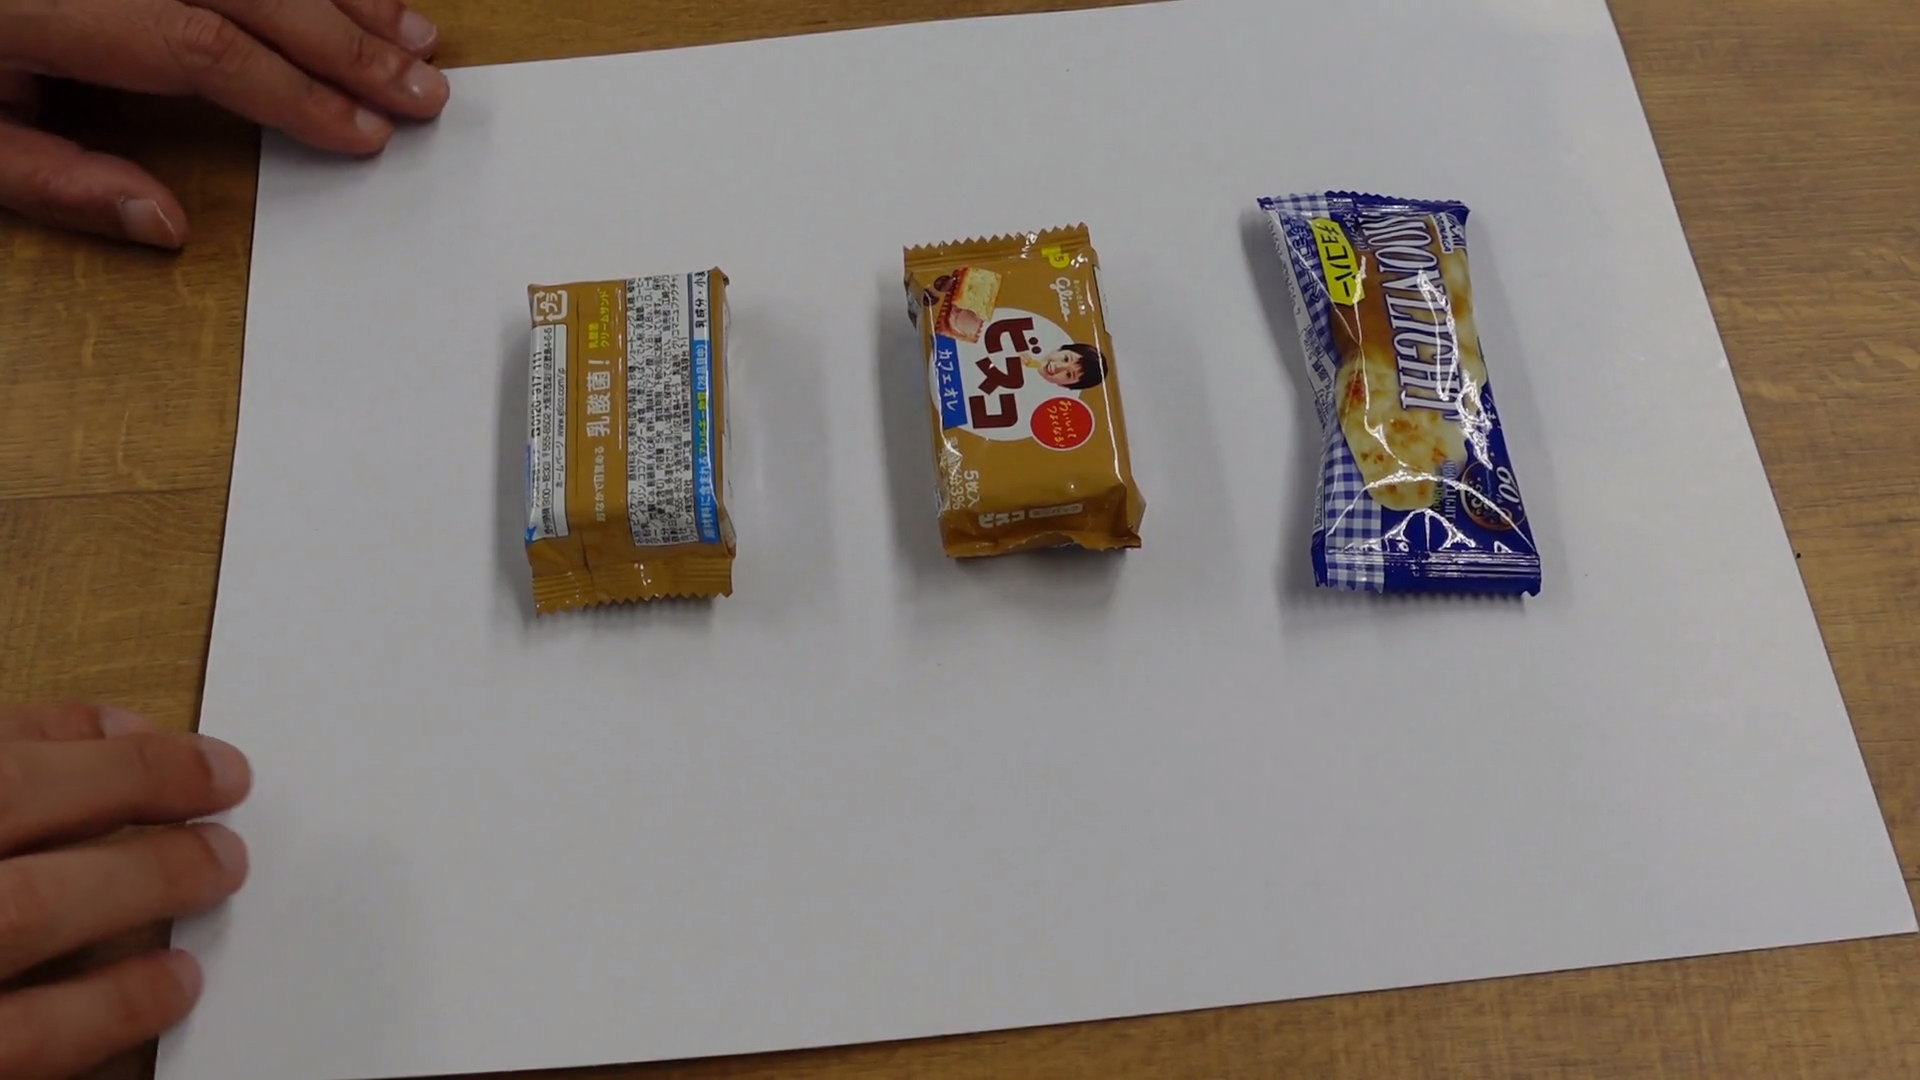BISCO_CafeAuLet: (913, 247, 1139, 563), (533, 284, 735, 611)
